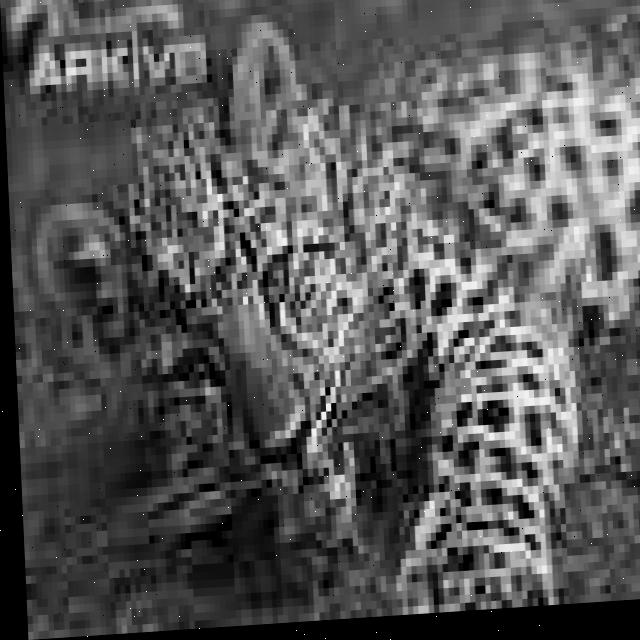Leopard: (43, 31, 575, 625)
